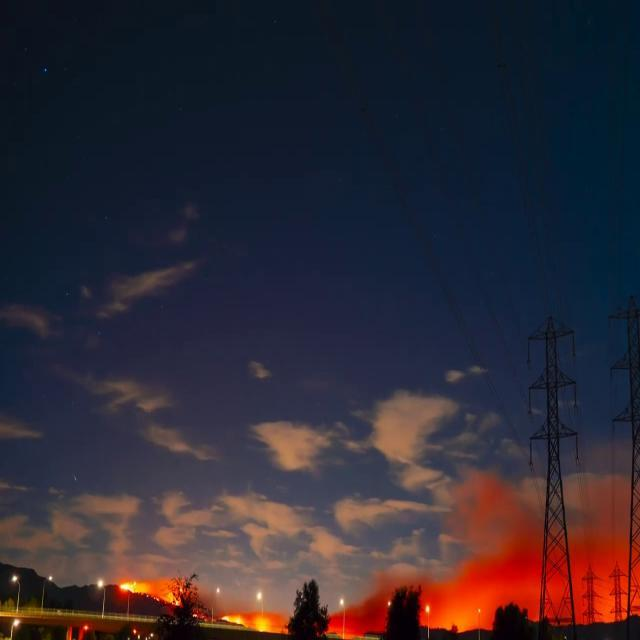Fire: (121, 578, 181, 606), (222, 614, 246, 626), (257, 616, 271, 635)
Smoke: (217, 464, 638, 638)
